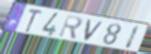4: (40, 12, 60, 38)
8: (101, 22, 123, 47)
I: (123, 25, 141, 51)
R: (57, 14, 84, 41)
T: (24, 8, 44, 34)
V: (82, 18, 106, 42)
